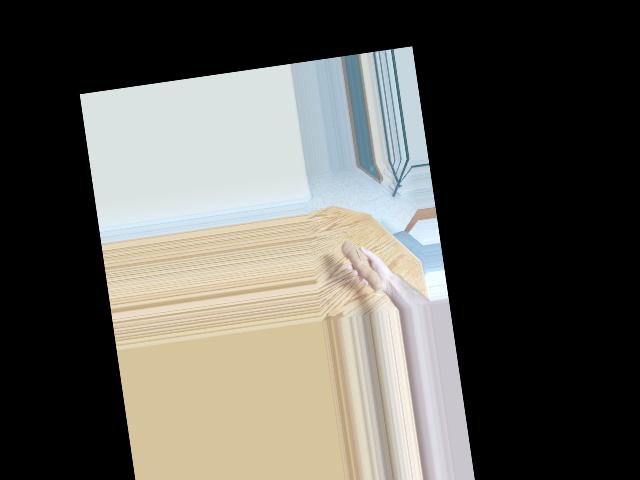sweet_potato: (340, 234, 388, 301)
